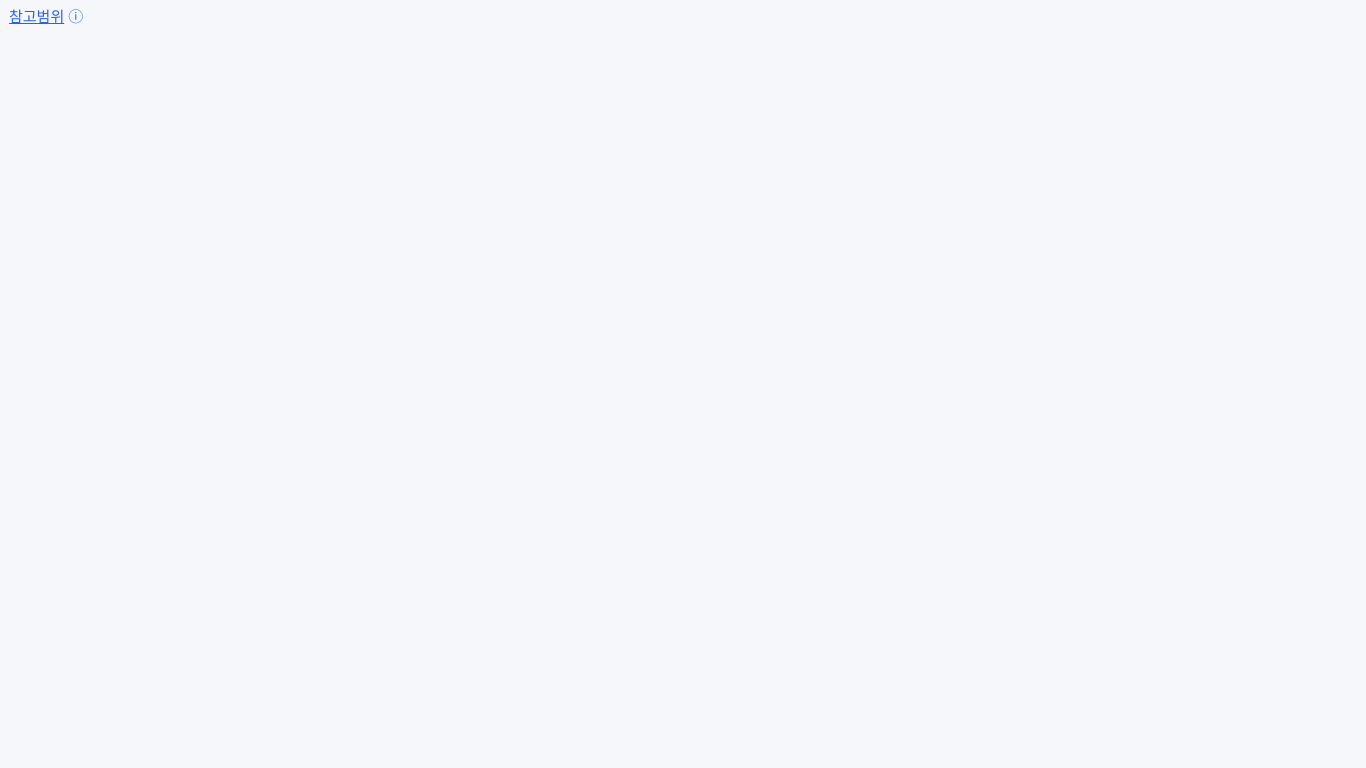
MedicalTermDialog › shows the plain-language definition and the common safety notice
The width and height of the screenshot is (1366, 768).
What coordinates should you click on to do the following:
click the button "참고범위 ⓘ"
I would click on:
 (46, 17)
Its box is x1=0 y1=0 x2=92 y2=33.
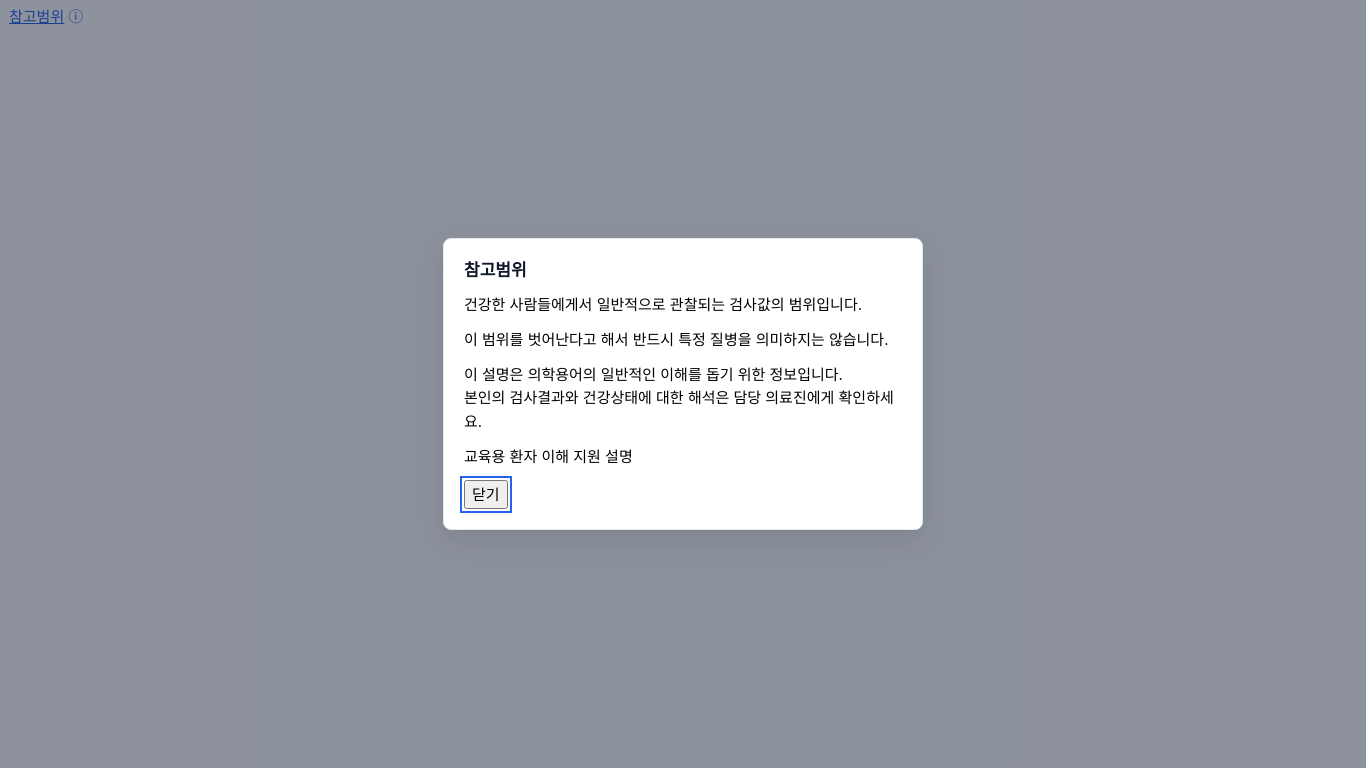
Check: the text "건강한 사람들에게서 일반적으로 관찰되는 검사값의 범위입니다." is shown, box x1=464 y1=293 x2=902 y2=316
Check: the text "교육용 환자 이해 지원 설명" is shown, box x1=464 y1=447 x2=633 y2=466
